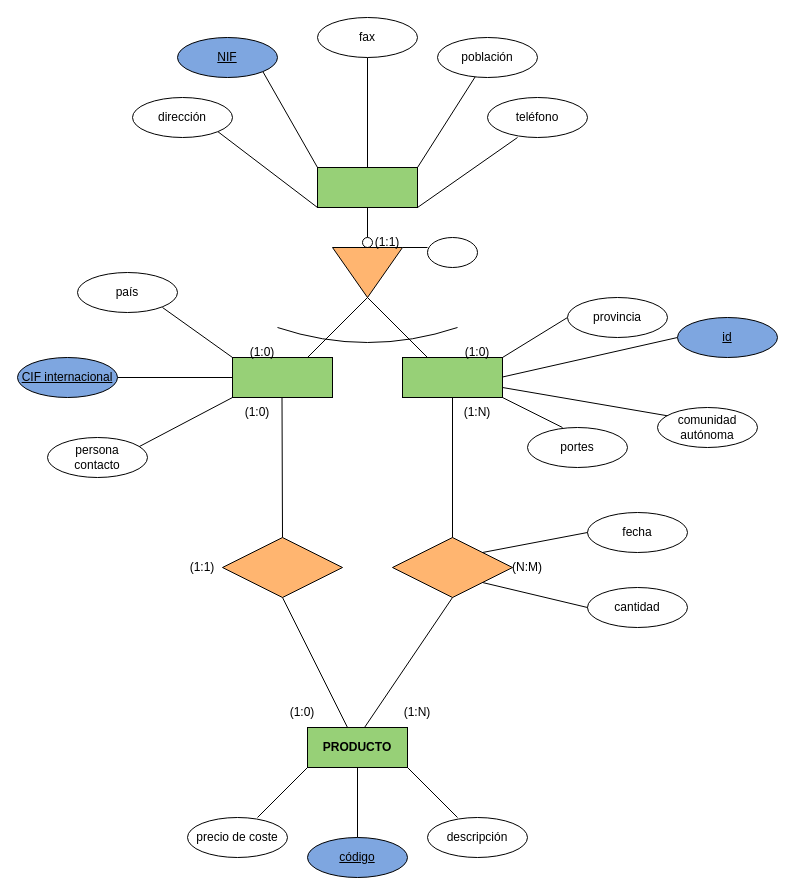
This 795x895 diagram has some shape labels left out. The centre of each missing label's shape, as x and y in pixels:
CLIENTE: the point at 452,377
compra: the point at 452,567
EMPRESA: the point at 367,187
provee: the point at 282,567
PROVEEDOR: the point at 282,377
tipo: the point at 452,252
